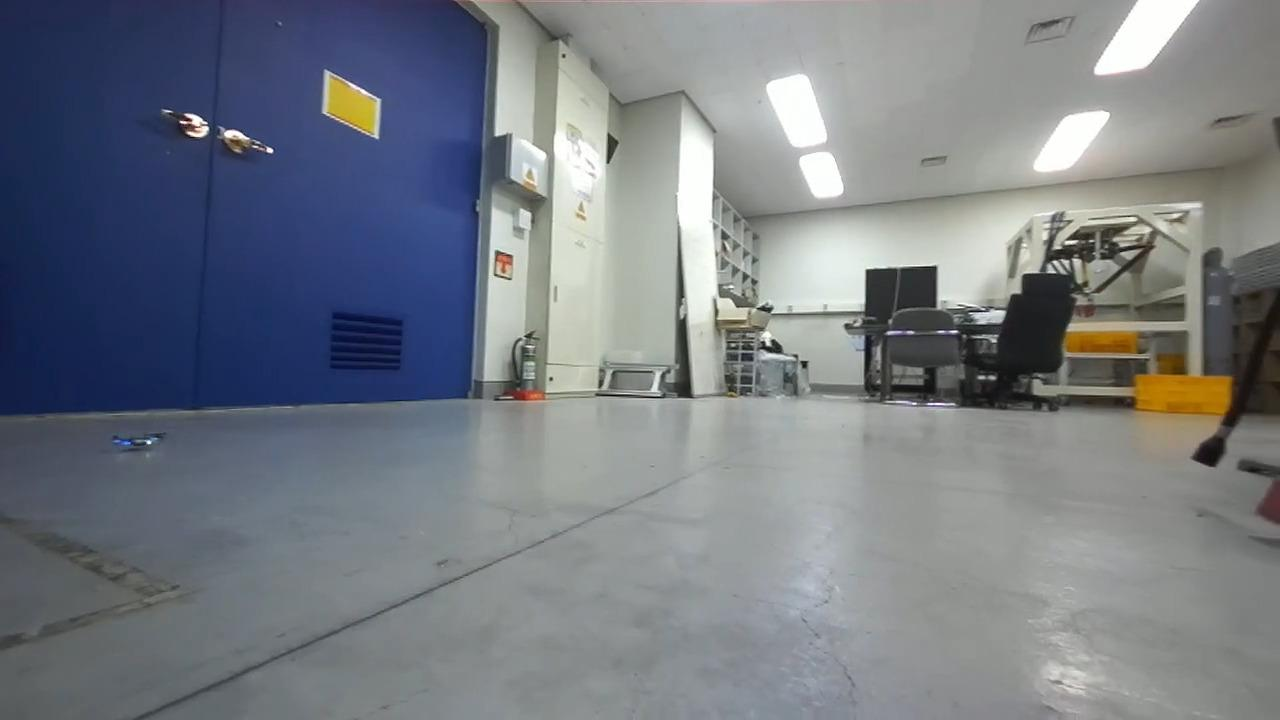crazyflie: (106, 427, 167, 457)
